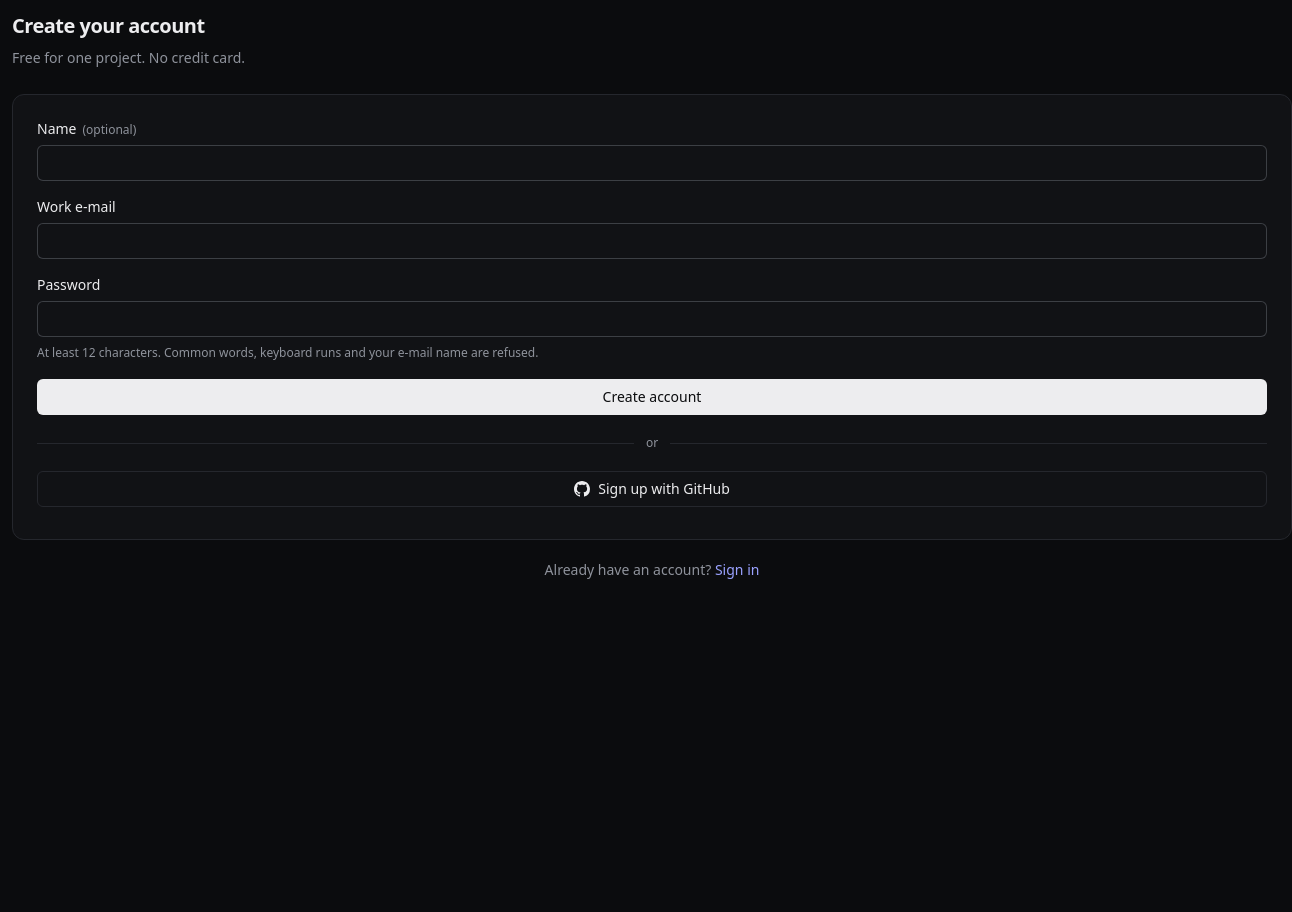
SignupForm › shows the API's weak_password reasons
The image size is (1292, 912).
Type "dev@acme.io" into the field labelled "Work e-mail".
click(652, 241); type("dev@acme.io")  # box 37,223 -> 1267,259
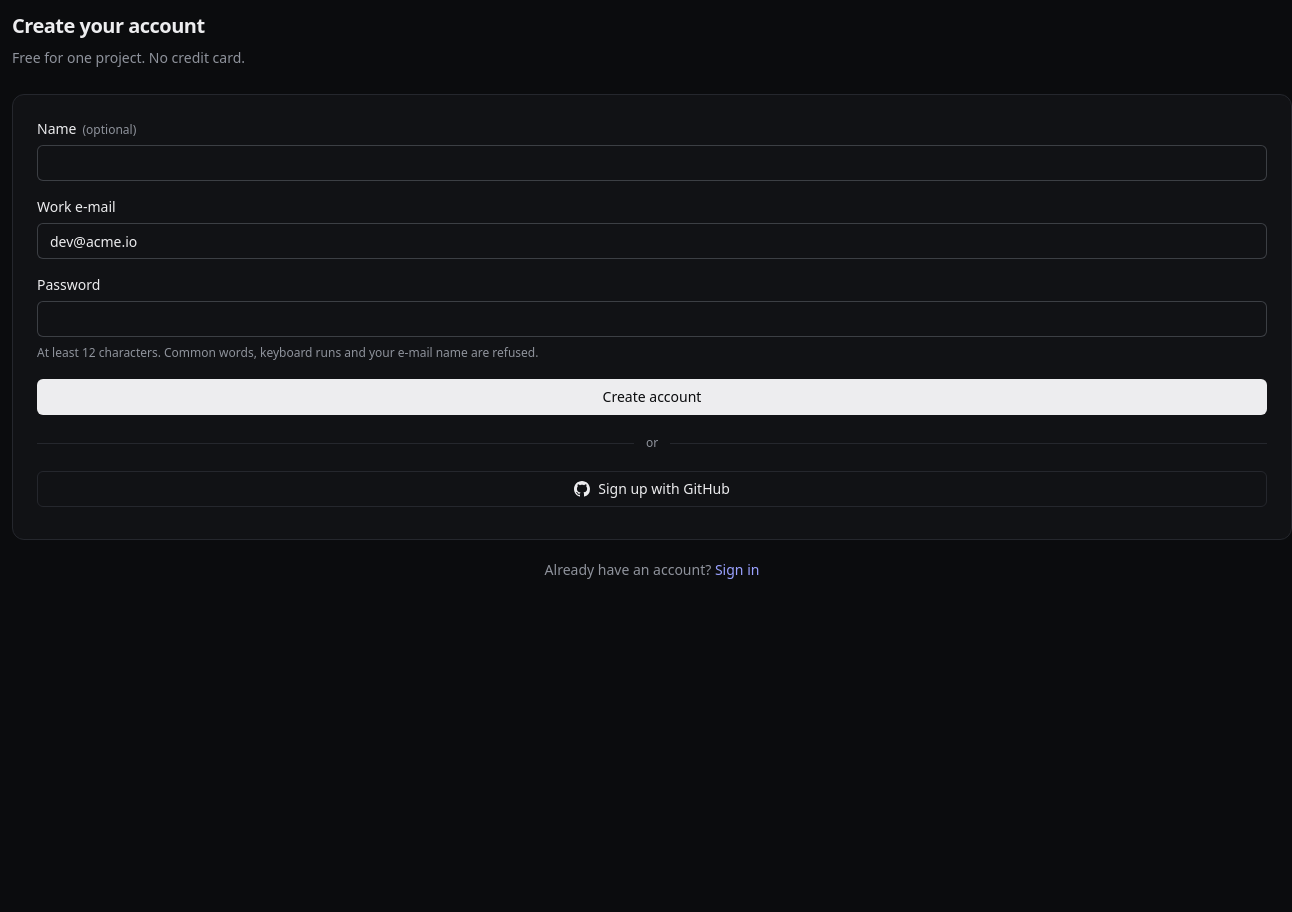
Type "Password123!x" into the password field labelled "Password".
click(652, 319); type("Password123!x")  # box 37,301 -> 1267,337
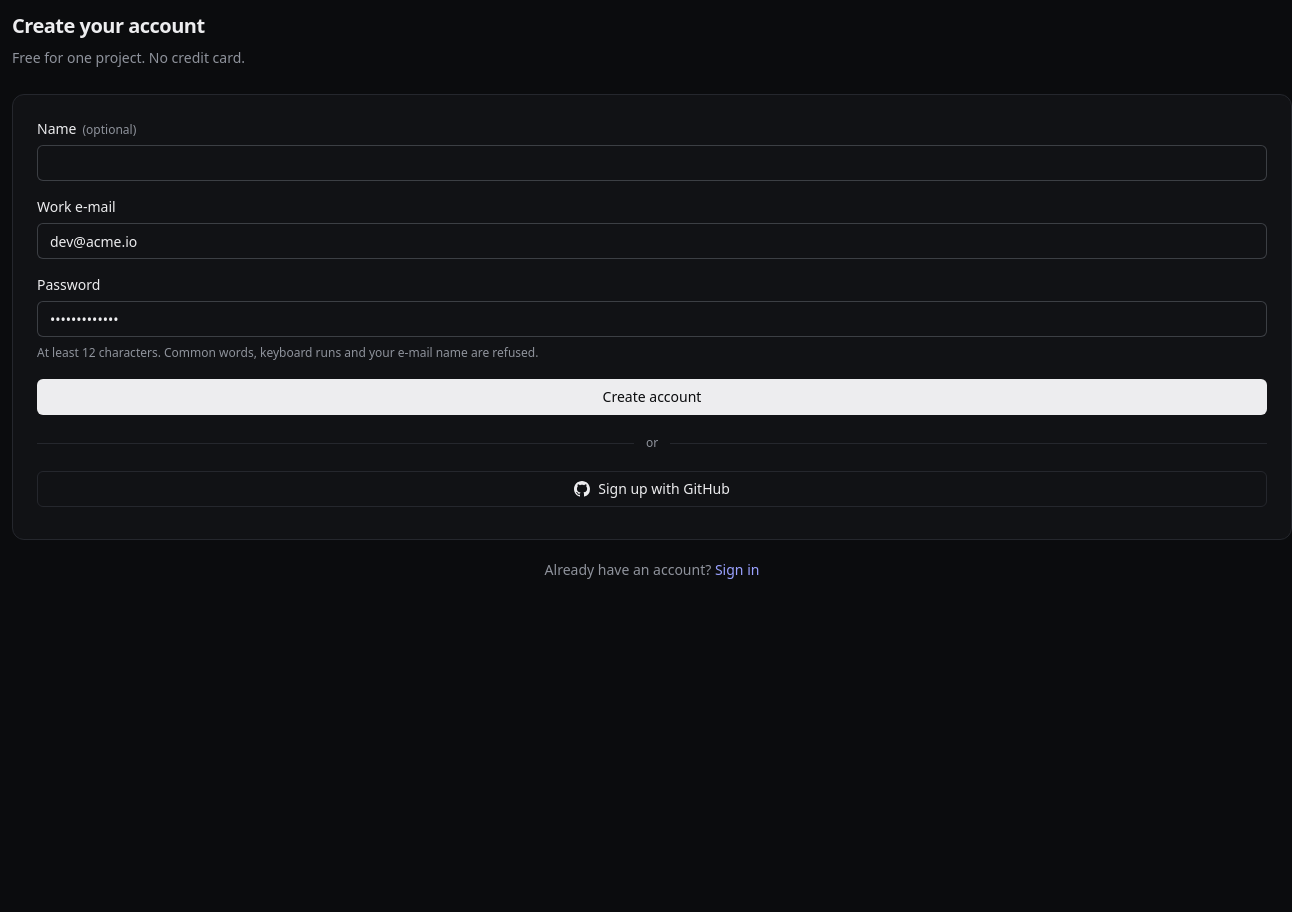
Submit the form named "Create your account", box 37,119 -> 1267,415
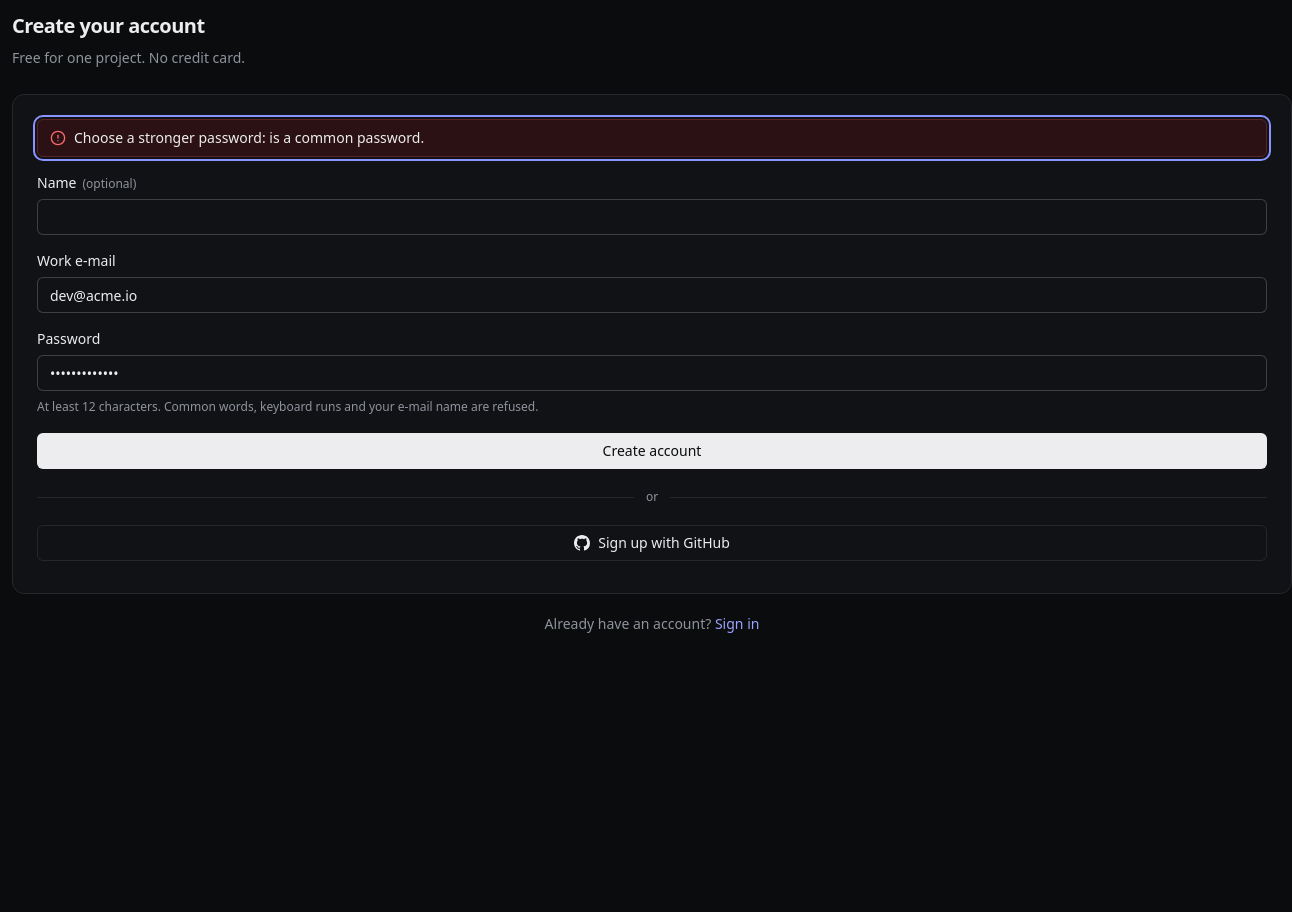
Result: the message reads "Choose a stronger password: is a common password." at 74,128 -> 424,147
